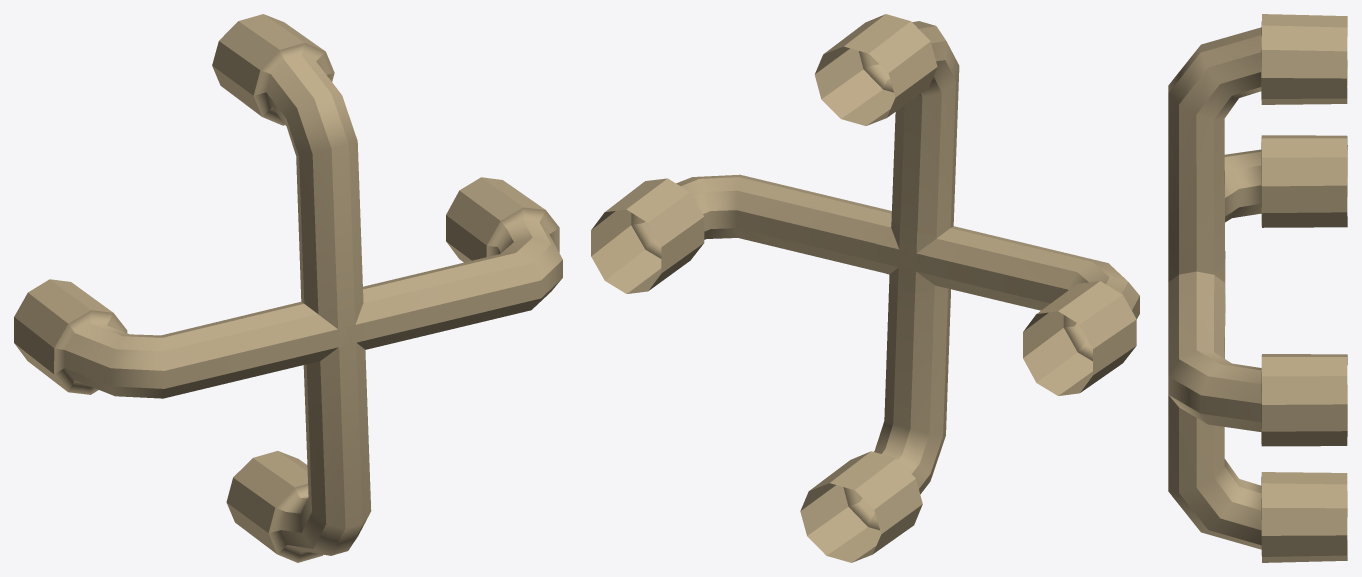
The model's file is pipes_cross.fbx.
3 renders of one model, left to right at view 1: azimuth 30°, elevation 25°; view 2: azimuth 150°, elevation 25°; view 3: azimuth 270°, elevation 25°, orthographic. The views are drawn at different scales.
Parts seen in each view (by area): view 1: polySurface148, polySurface145, polySurface146, polySurface147; view 2: polySurface146, polySurface147, polySurface145, polySurface148; view 3: polySurface148, polySurface146, polySurface147, polySurface145.
Part boxes in pixels (box(x1,y1,x2,y2)): polySurface148: box(212, 14, 363, 348); polySurface145: box(14, 279, 356, 398); polySurface146: box(349, 177, 562, 349); polySurface147: box(226, 324, 371, 562); polySurface146: box(591, 174, 927, 293); polySurface147: box(800, 223, 950, 562); polySurface145: box(876, 226, 1139, 395); polySurface148: box(814, 14, 959, 295); polySurface148: box(1168, 14, 1347, 325); polySurface146: box(1168, 271, 1347, 446); polySurface147: box(1168, 251, 1347, 562); polySurface145: box(1214, 135, 1347, 312).
Size of the model in its own units: 0.6734 by 0.6598 by 0.2027.
